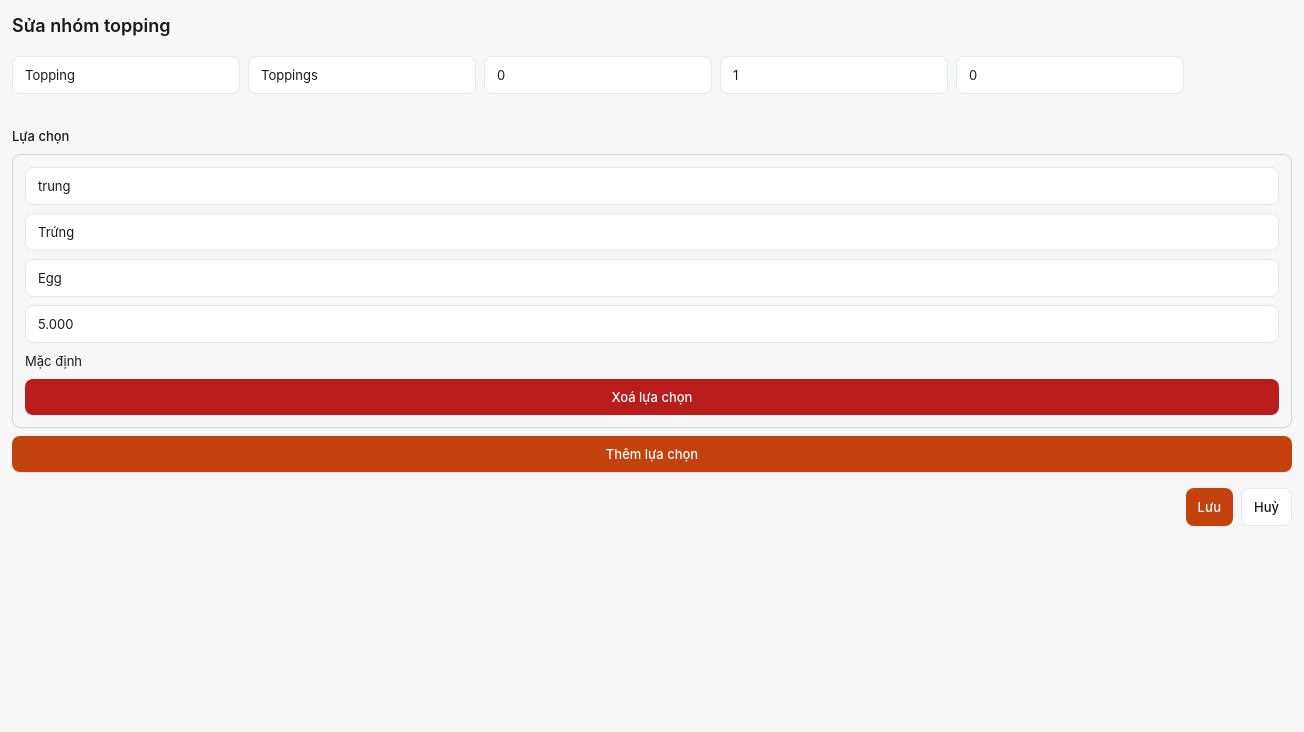
Test: ModifierGroupEditor › shows the validator message when maxSelect is wider than the option list
Replace the text in the number field named "Chọn nhiều nhất" with "3": (834, 75) 720,56 -> 948,94
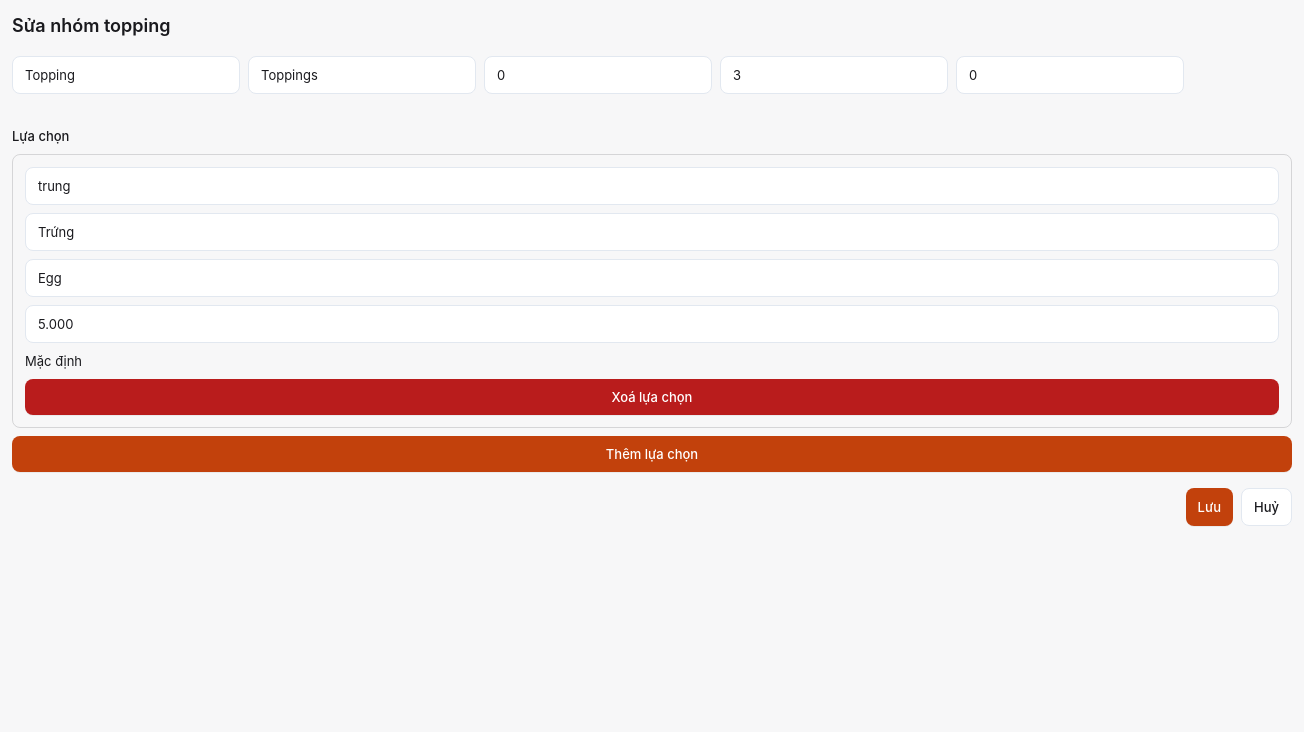
Submit the form
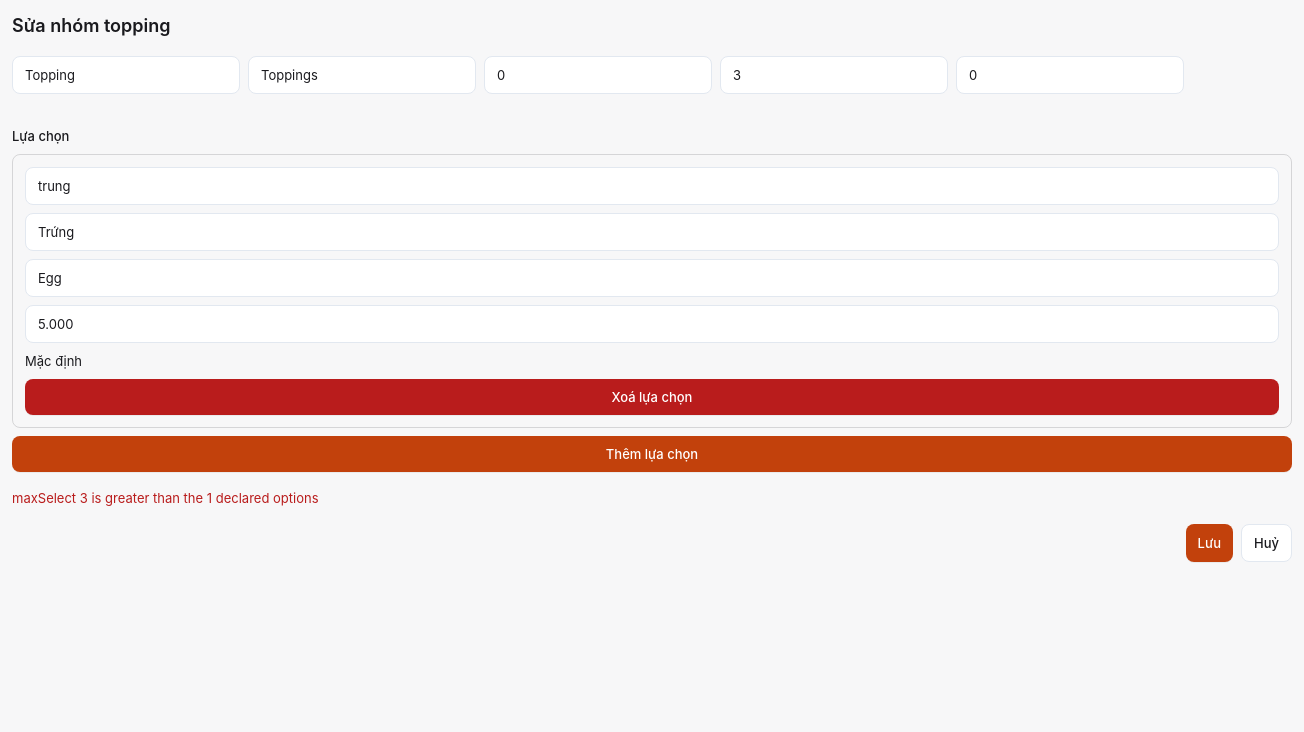
Result: the message "maxSelect 3 is greater than the 1 declared options" is shown at 12,490 -> 318,506
